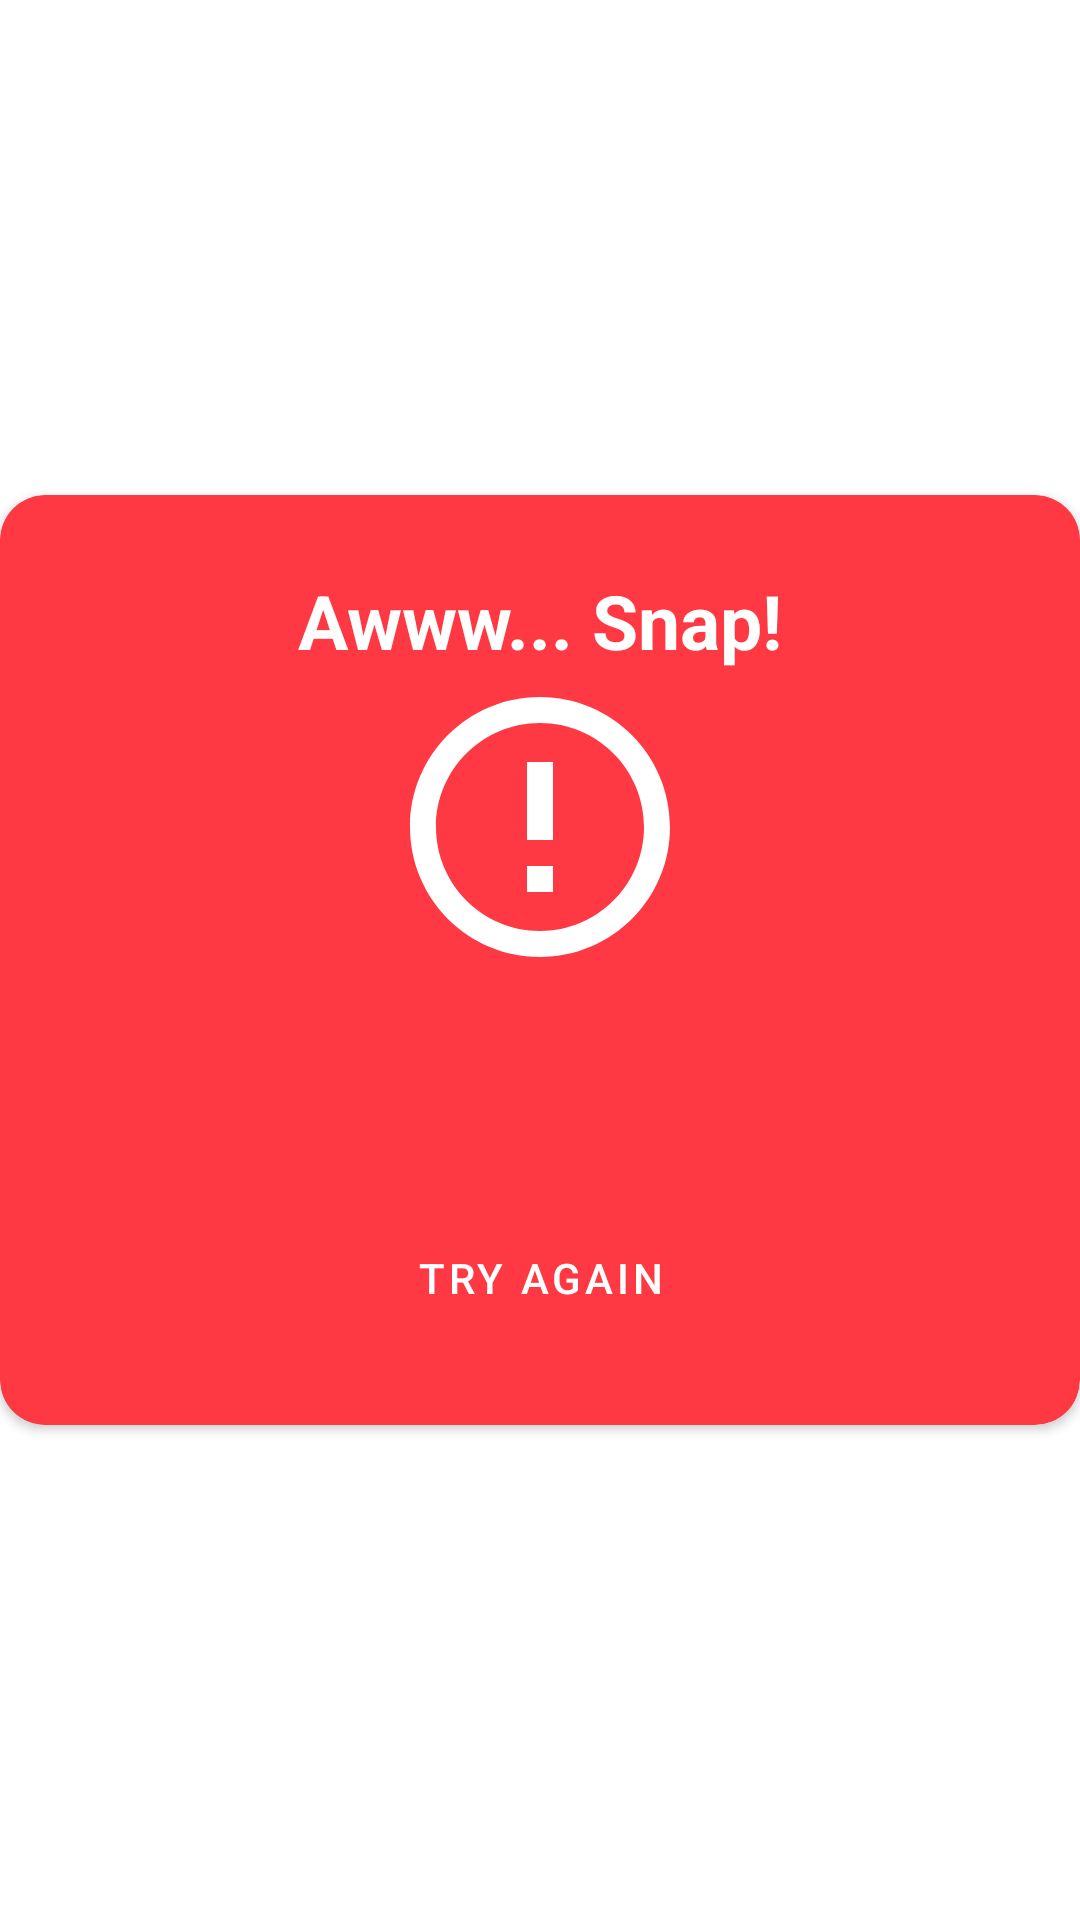

Icon bounding boxes for this 1080*1920 phone screenshot, format [x1, y1, x2, y2]:
error: [410, 697, 670, 957]
